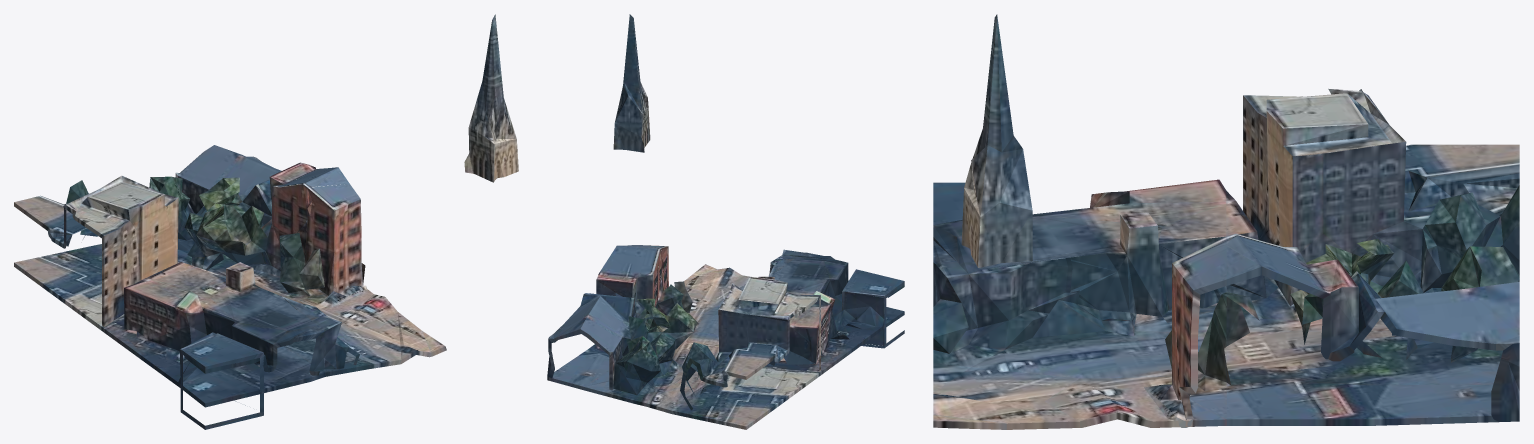
The model's file is chunk_4_2.glb.
3 views of the same model, side by side, from view 1: azimuth 30°, elevation 25°; view 2: azimuth 150°, elevation 25°; view 3: azimuth 270°, elevation 25° (orthographic). The views are drawn at different scales.
Visible parts, largest first — view 1: hero-chunk; view 2: hero-chunk; view 3: hero-chunk.
Boxes of the visible parts, x1,y1,x2,y2 form: hero-chunk: (14,14,518,429); hero-chunk: (547,14,904,429); hero-chunk: (933,14,1519,429).
Size of the model in its own units: 75.72 by 71.62 by 76.32.
3 materials, 3 textured.
